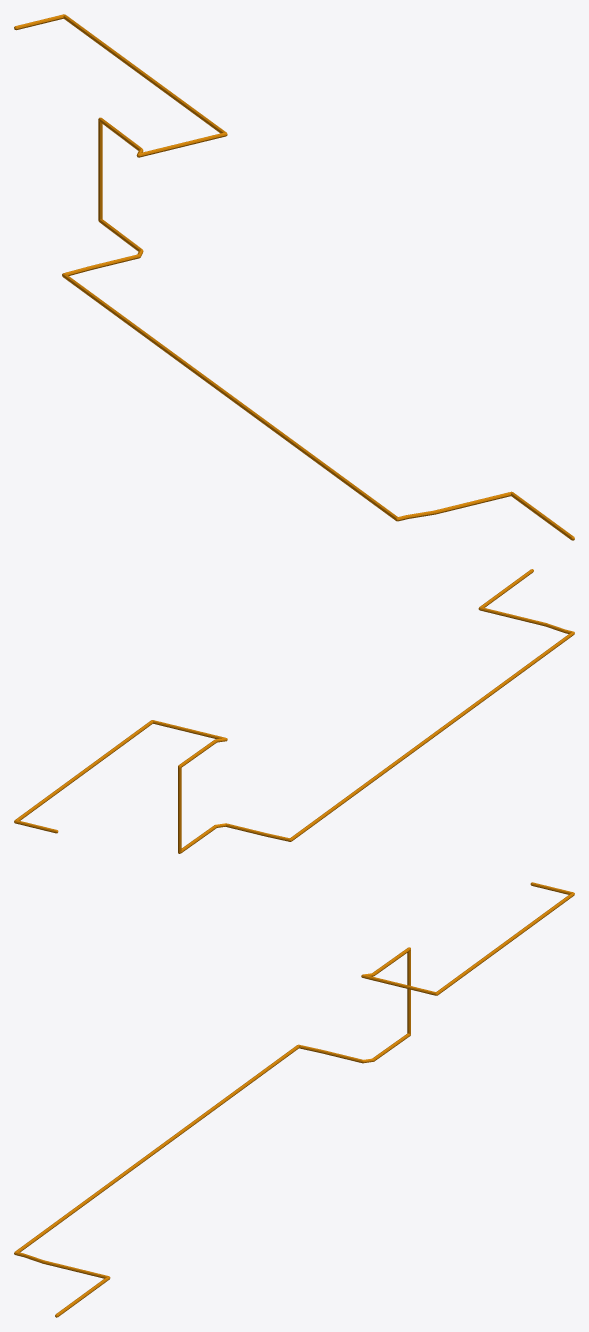
The picture shows the model from 3 angles, top to bottom: view 1: azimuth 30°, elevation 25°; view 2: azimuth 150°, elevation 25°; view 3: azimuth 330°, elevation 25°; orthographic projection. The views are drawn at different scales.
Size of the model in its own units: 862 by 520 by 5047.
